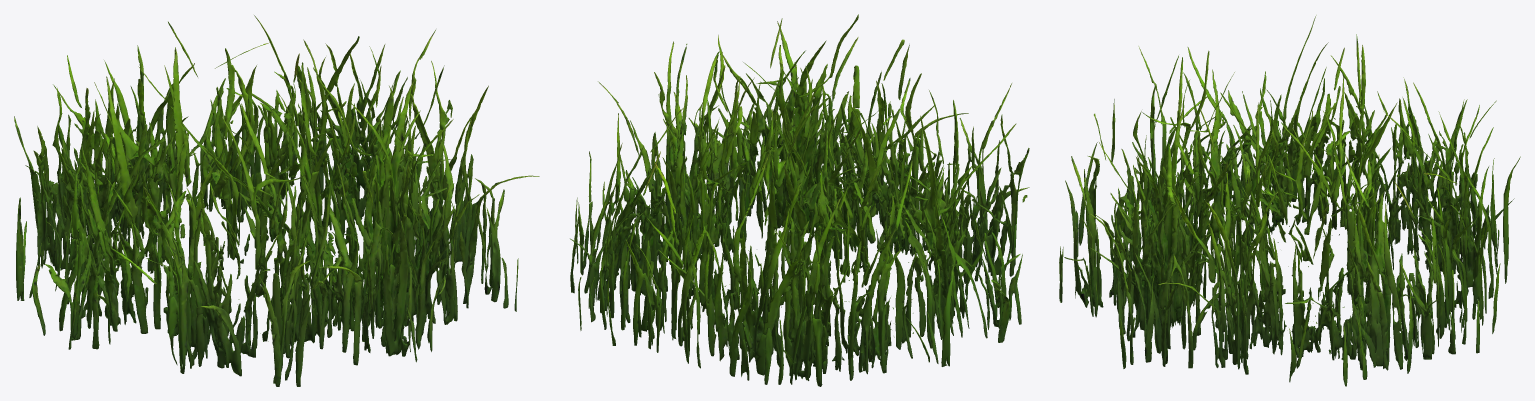
The model's file is grass3.glb.
The picture shows the model from 3 angles, left to right: view 1: azimuth 30°, elevation 25°; view 2: azimuth 150°, elevation 25°; view 3: azimuth 270°, elevation 25°; orthographic projection. The views are drawn at different scales.
Bounding box in the file's own units: 1.91 × 1.07 × 1.89.
Materials: 1 (1 with a texture image).
